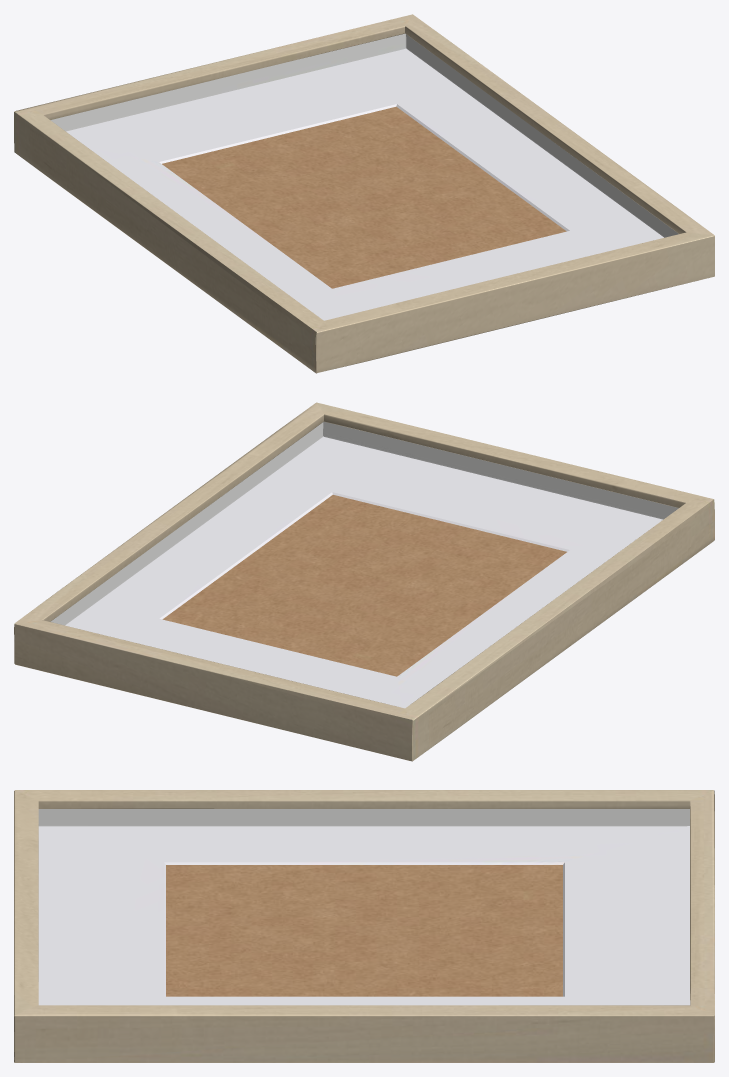
Rendered from roedalm_frame_birch_effect.glb.
3 views of the same model, one above another, from view 1: azimuth 30°, elevation 25°; view 2: azimuth 150°, elevation 25°; view 3: azimuth 270°, elevation 25° (orthographic). The views are drawn at different scales.
Parts seen in each view (by area): view 1: 20548895-RÃƒâ€“DALM001; view 2: 20548895-RÃƒâ€“DALM001; view 3: 20548895-RÃƒâ€“DALM001.
Part boxes in pixels (x1,y1,x2,y2): 20548895-RÃƒâ€“DALM001: (14, 14, 714, 373); 20548895-RÃƒâ€“DALM001: (14, 402, 714, 761); 20548895-RÃƒâ€“DALM001: (14, 790, 714, 1062).
Bounding box in the file's own units: 0.3229 × 0.0321 × 0.424.
2 materials, 2 textured.
